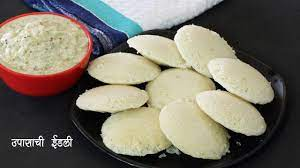idli: (91, 21, 290, 164)
